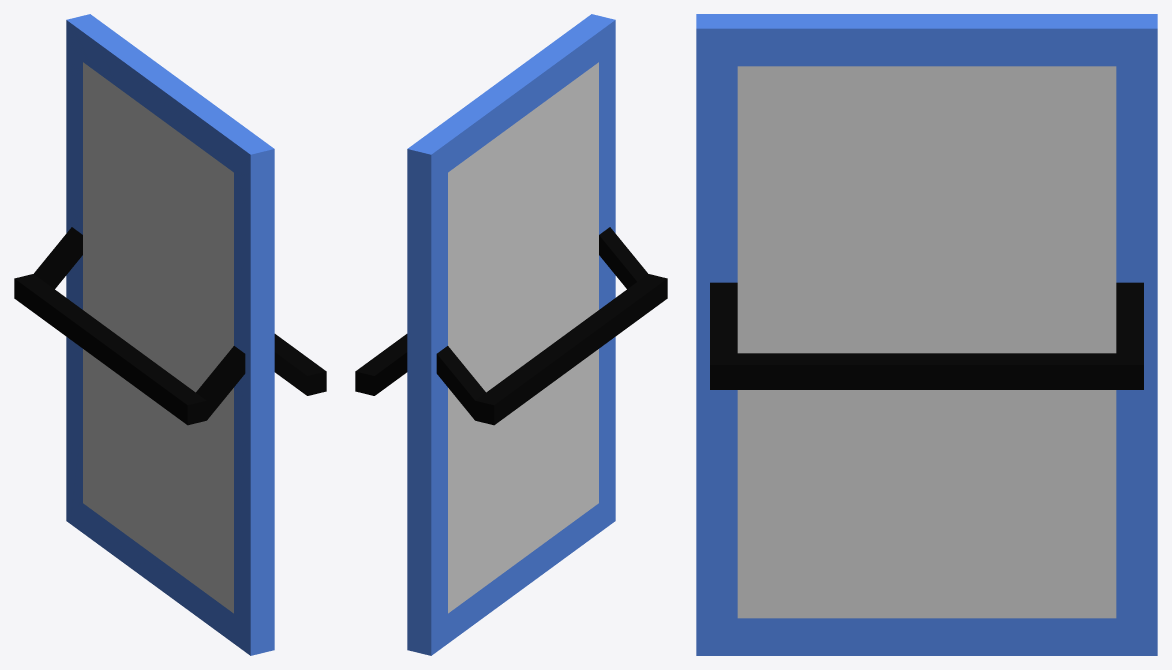
The model's file is Arcade Door.fbx.
3 views of the same model, side by side, from view 1: azimuth 30°, elevation 25°; view 2: azimuth 150°, elevation 25°; view 3: azimuth 270°, elevation 25° (orthographic). The views are drawn at different scales.
Visible parts, largest first — view 1: Door; view 2: Door; view 3: Door.
Part boxes in pixels (left/top/right/bottom): Door: left=14, top=14, right=326, bottom=655; Door: left=355, top=14, right=667, bottom=655; Door: left=696, top=14, right=1157, bottom=655.
Bounding box in the file's own units: 145 × 500 × 333.
